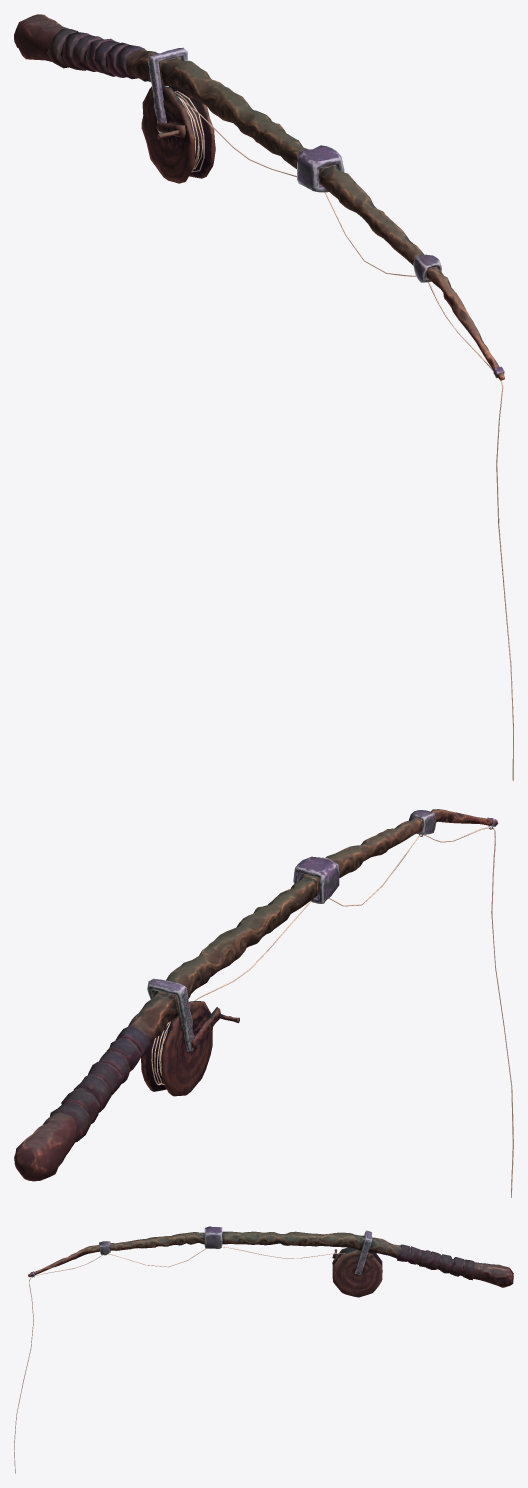
File: hymir_rod.glb
3 renders of one model, top to bottom at view 1: azimuth 30°, elevation 25°; view 2: azimuth 150°, elevation 25°; view 3: azimuth 270°, elevation 25°, orthographic. The views are drawn at different scales.
Visible parts, largest first — view 1: LowPolyRod; view 2: LowPolyRod; view 3: LowPolyRod.
Boxes of the visible parts, box(x1,y1,x2,y2) form: LowPolyRod: box(14, 14, 513, 780); LowPolyRod: box(14, 809, 513, 1197); LowPolyRod: box(14, 1226, 513, 1473).
Size of the model in its own units: 0.0658 by 0.5104 by 0.9429.
Materials: 10 (9 with a texture image).
